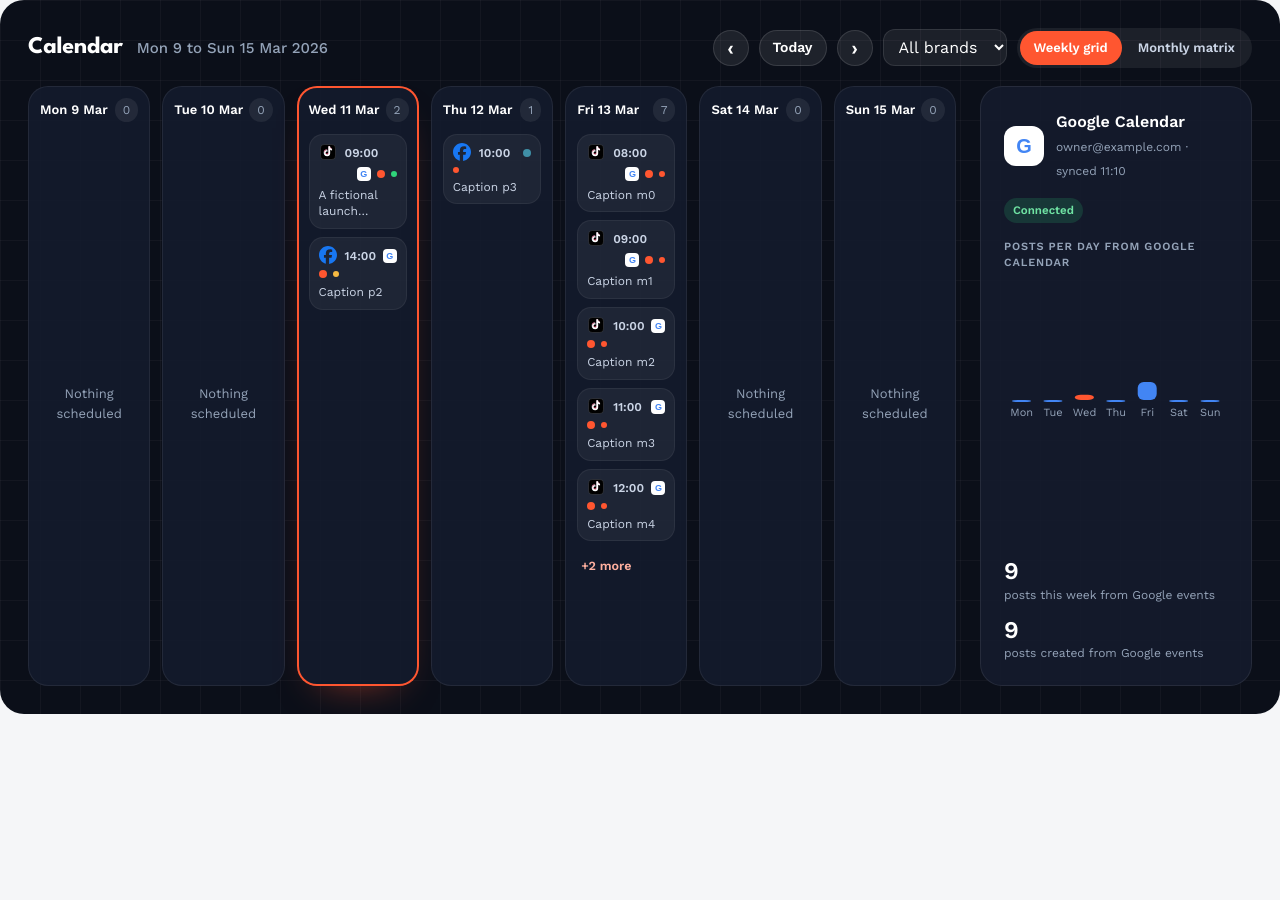
Test: drawer › opens from a card with the full text, the status and where it came from, without moving the grid
The width and height of the screenshot is (1280, 900).
Click the button with test id "cw-card-p1".
click(358, 181)  # box [309,134,407,229]
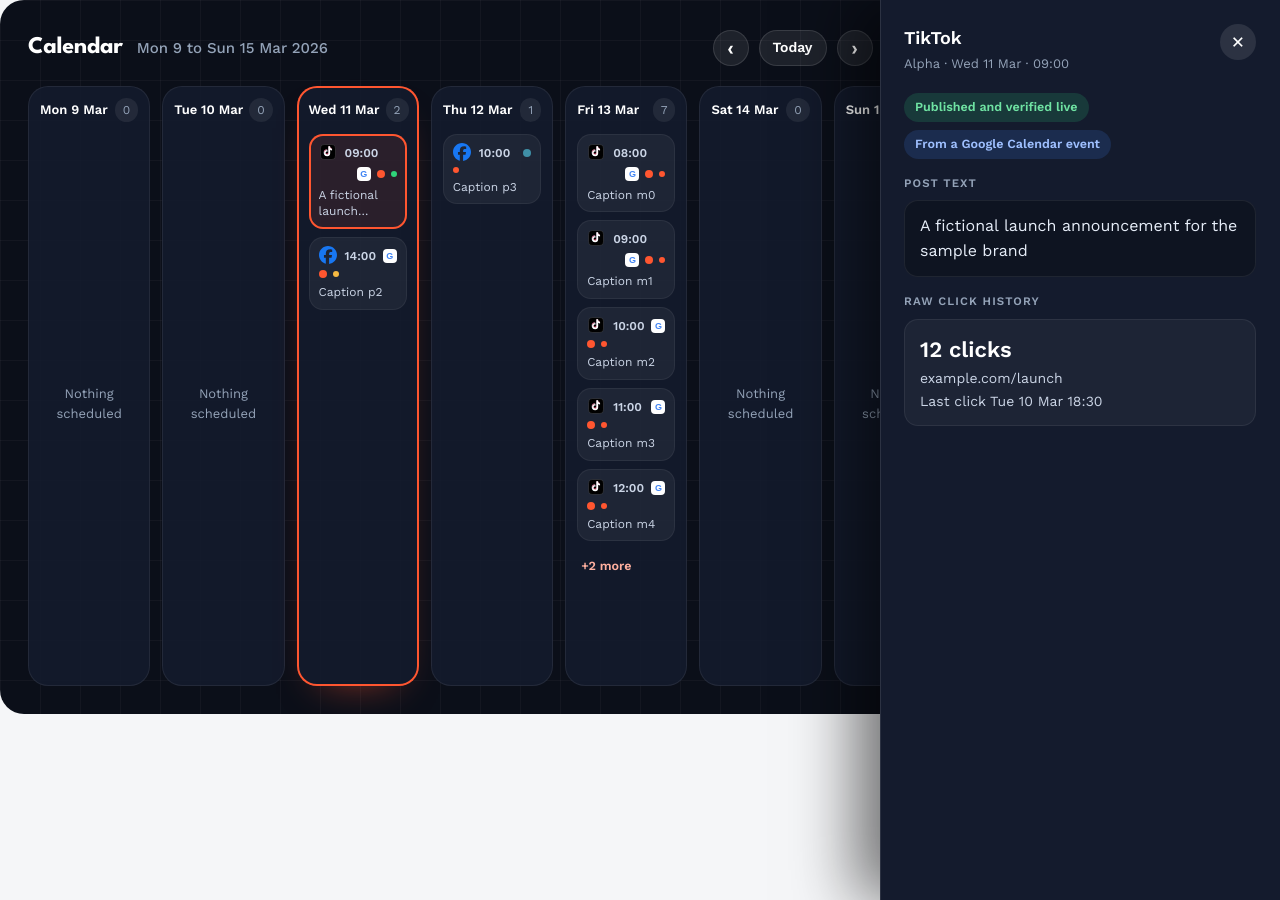
Now the text "A fictional launch announcement for the sample brand" below "Post text" is shown, box [920,216,1243,260]
Now the text "Published and verified live" is shown, box [904,93,1088,122]
Now the text "From a Google Calendar event" is shown, box [904,130,1111,159]
